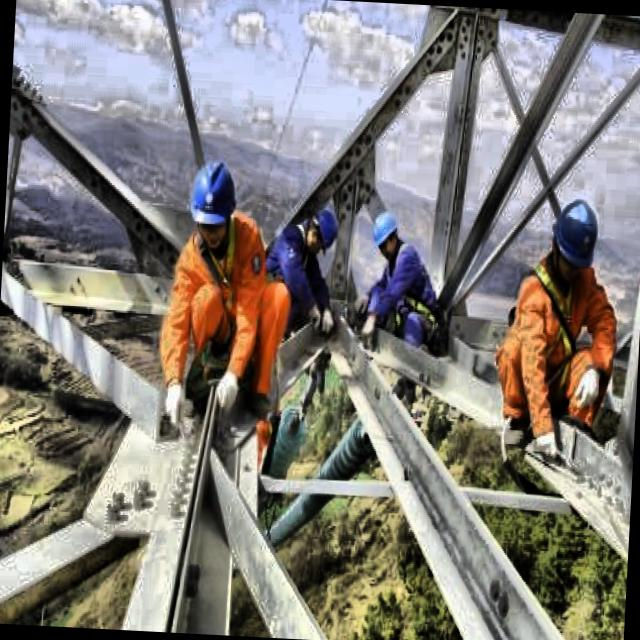helmet: (184, 156, 240, 258), (551, 190, 605, 278), (366, 206, 402, 268), (300, 208, 339, 252)
